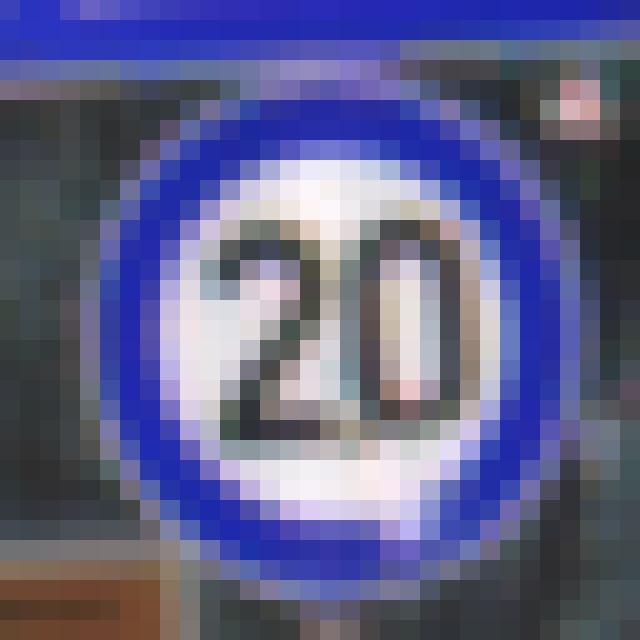SPEED LIMIT 20: (85, 80, 600, 626)
